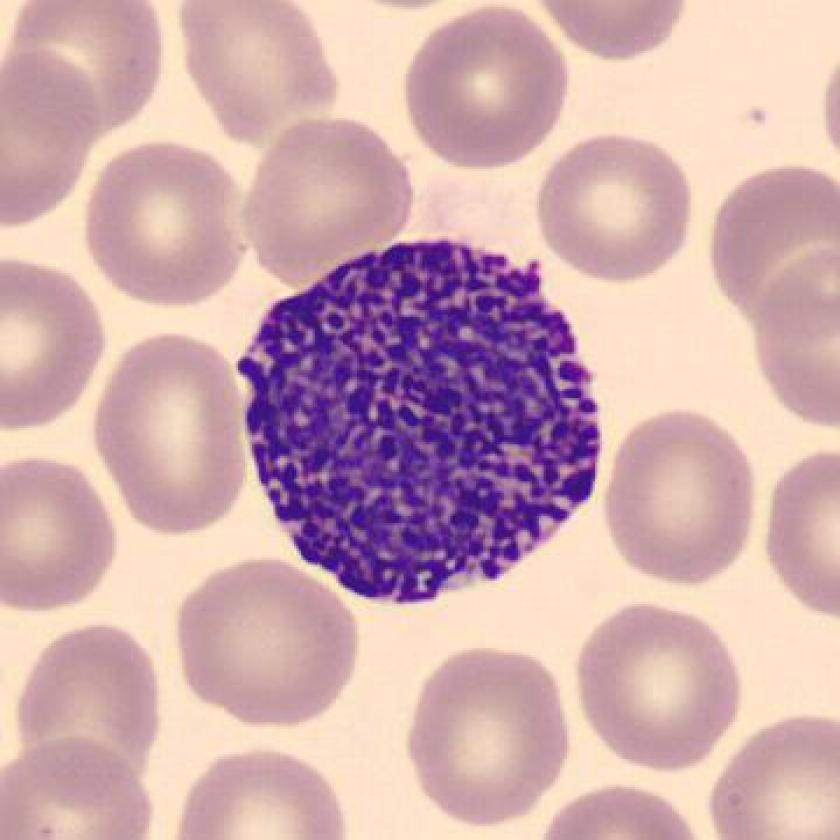basophil: (227, 232, 610, 619)
